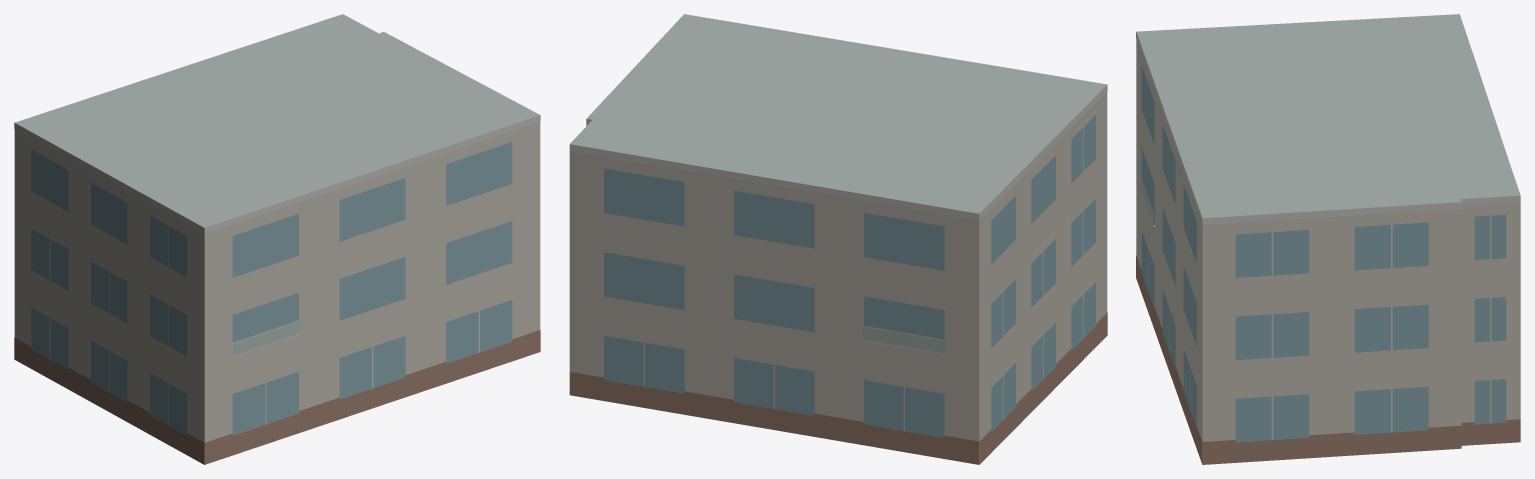
Rendered from survey-upis-32956127.glb.
The picture shows the model from 3 angles, left to right: view 1: azimuth 30°, elevation 25°; view 2: azimuth 150°, elevation 25°; view 3: azimuth 270°, elevation 25°; orthographic projection. The views are drawn at different scales.
Parts seen in each view (by area): view 1: survey-upis-32956127.tmp; view 2: survey-upis-32956127.tmp; view 3: survey-upis-32956127.tmp.
Part boxes in pixels (left/top/right/bottom): survey-upis-32956127.tmp: left=14, top=14, right=540, bottom=464; survey-upis-32956127.tmp: left=569, top=14, right=1107, bottom=464; survey-upis-32956127.tmp: left=1136, top=14, right=1520, bottom=464.
Size of the model in its own units: 16.27 by 9.15 by 12.94.
